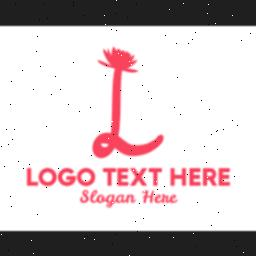a: (116, 191, 124, 203)
e: (116, 166, 130, 186), (188, 166, 202, 186), (141, 188, 155, 204), (154, 192, 162, 204)
g: (58, 167, 76, 187), (106, 192, 116, 208)
h: (168, 166, 188, 188)
l: (74, 52, 172, 160), (25, 162, 39, 188), (90, 188, 98, 204)
n: (126, 192, 138, 204)
o: (76, 166, 98, 188), (96, 191, 106, 205)
r: (202, 166, 218, 186), (161, 192, 169, 204)
s: (78, 188, 90, 204)
t: (102, 165, 116, 187)
x: (129, 166, 147, 186)
